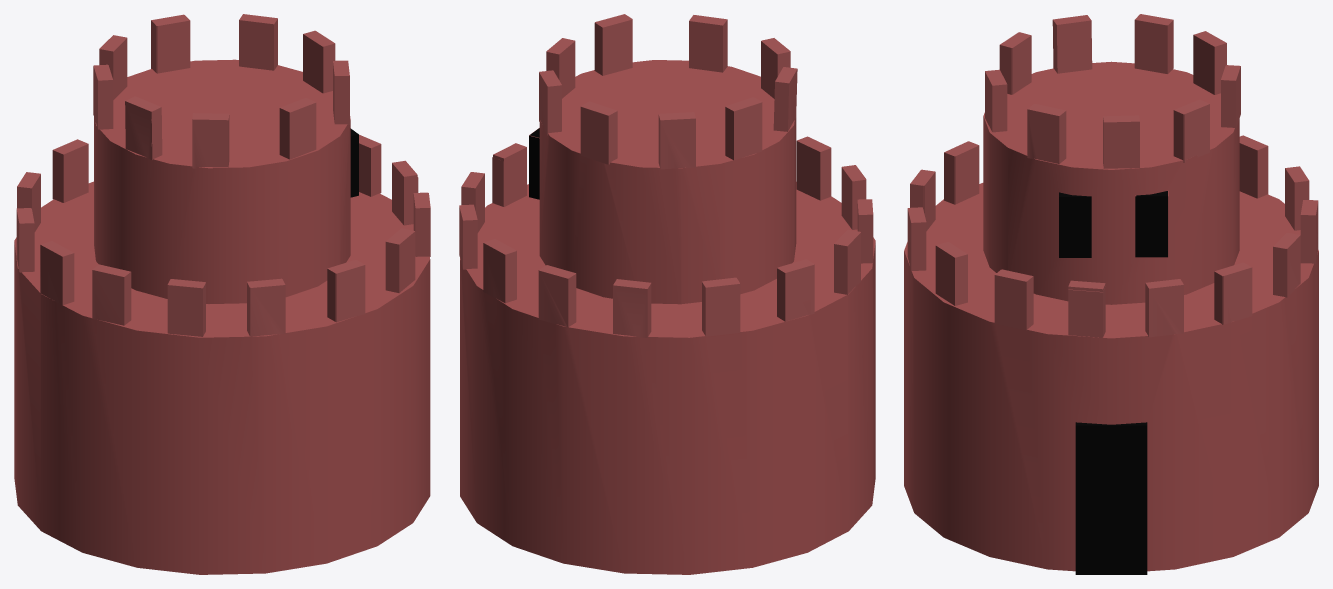
Rendered from siro.fbx.
3 renders of one model, left to right at view 1: azimuth 30°, elevation 25°; view 2: azimuth 150°, elevation 25°; view 3: azimuth 270°, elevation 25°, orthographic.
Visible parts, largest first — view 1: pCylinder3; view 2: pCylinder3; view 3: pCylinder3.
Part boxes in pixels (<box>): pCylinder3: <box>14,14,430,574</box>; pCylinder3: <box>459,14,875,574</box>; pCylinder3: <box>904,14,1318,574</box>.
Bounding box in the file's own units: 2.67 × 2.96 × 2.65.
